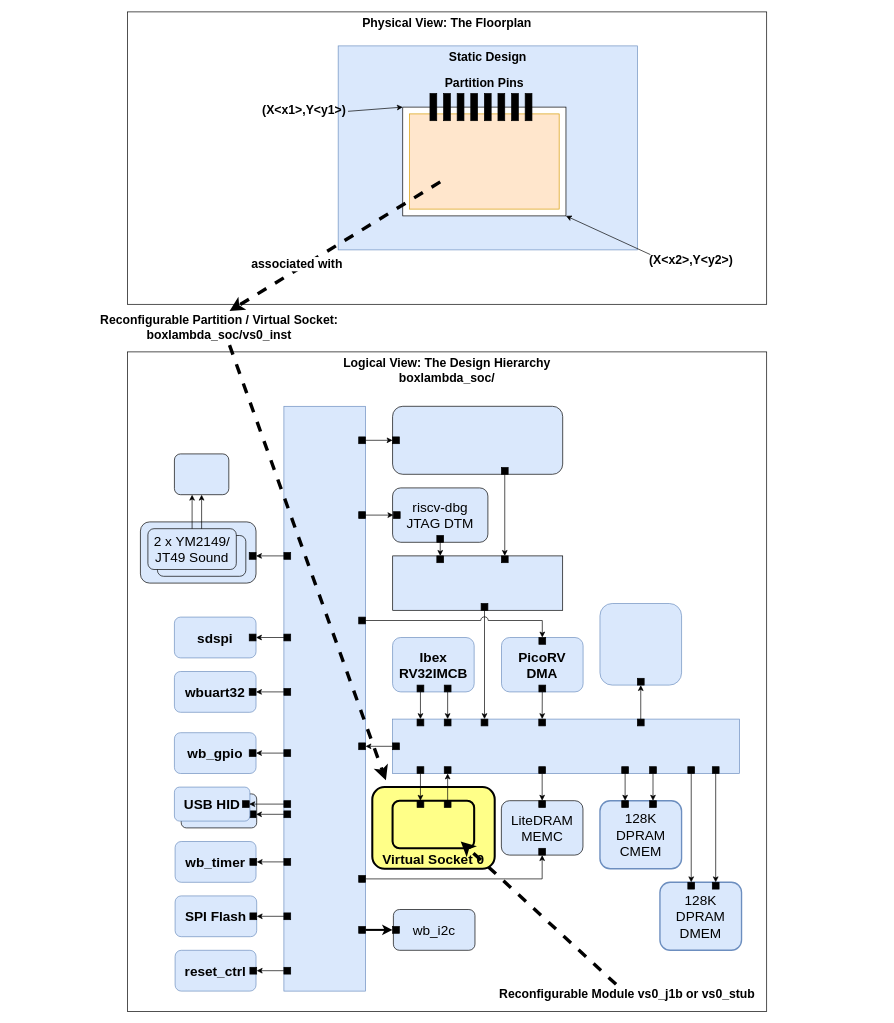
This 894x1023 diagram has some shape labels left out. Here are the shapes that lost their labels. From the top down, the centre of each, then its label:
At pixel 484 161: "Pblock vs0 - Reconfigurable Logic".
At pixel 477 440: "wb_dfx_controller".
At pixel 201 474: "Audio DAC".
At pixel 477 582: "Wishbone Arbiter".
At pixel 640 644: "VERA Graphics 128KB VRAM".
At pixel 324 698: "wbxbar Wishbone Shared Bus".
At pixel 566 746: "wbxbar Wishbone Crossbar".
At pixel 433 824: "vs0_stub / vs0_j1b".
